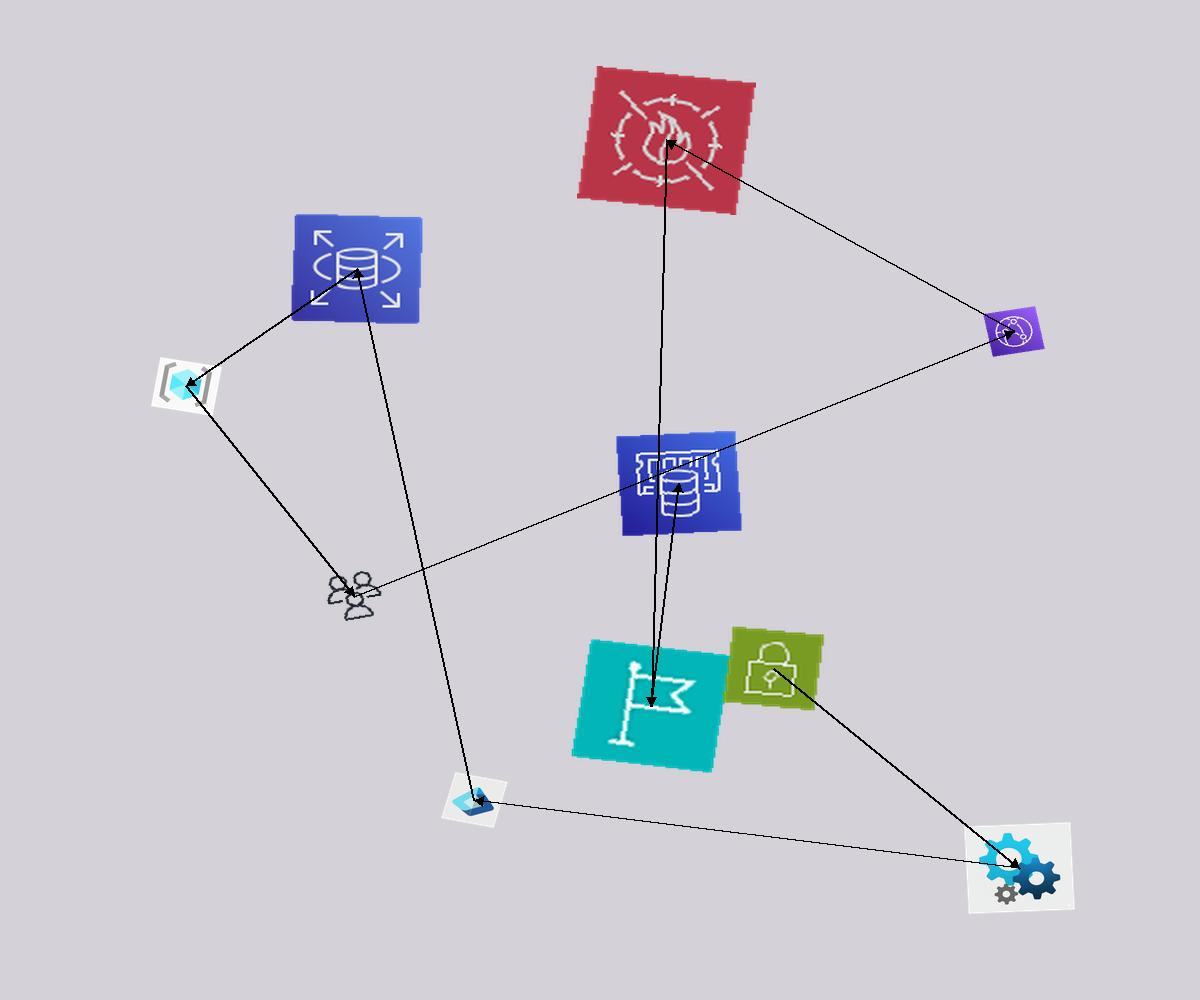AWS-CloudFront: (983, 306, 1045, 357)
AWS-ElastiCache: (615, 430, 743, 537)
AWS-Public-subnet: (721, 625, 826, 712)
AWS-RDS: (290, 213, 424, 325)
AWS-Region: (570, 638, 733, 774)
AWS-Res_Users: (318, 566, 390, 626)
AWS-WAF: (577, 66, 756, 215)
Azure_api: (964, 822, 1075, 914)
Azure_microsoft_entra: (441, 772, 508, 828)
Azure_resource_group: (151, 357, 222, 416)
